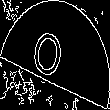O_S: (36, 23, 74, 87)
